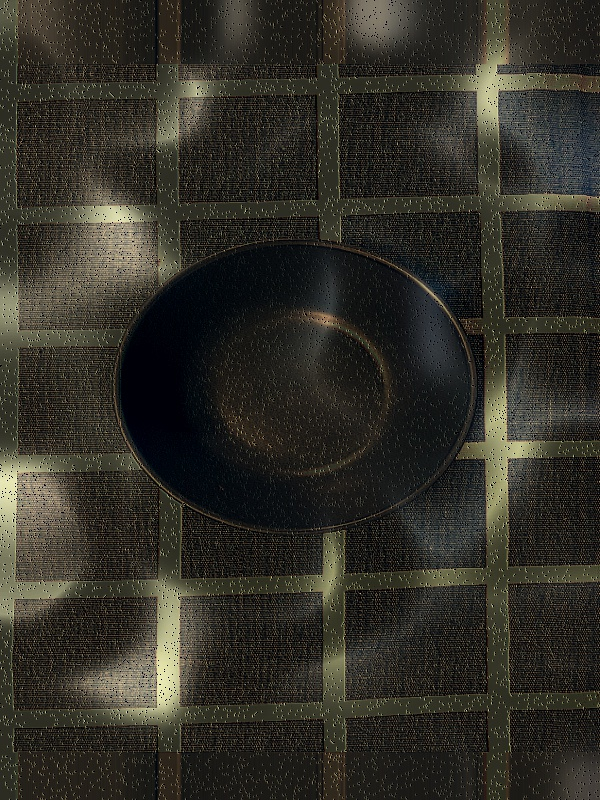bowl_big: (106, 219, 491, 543)
